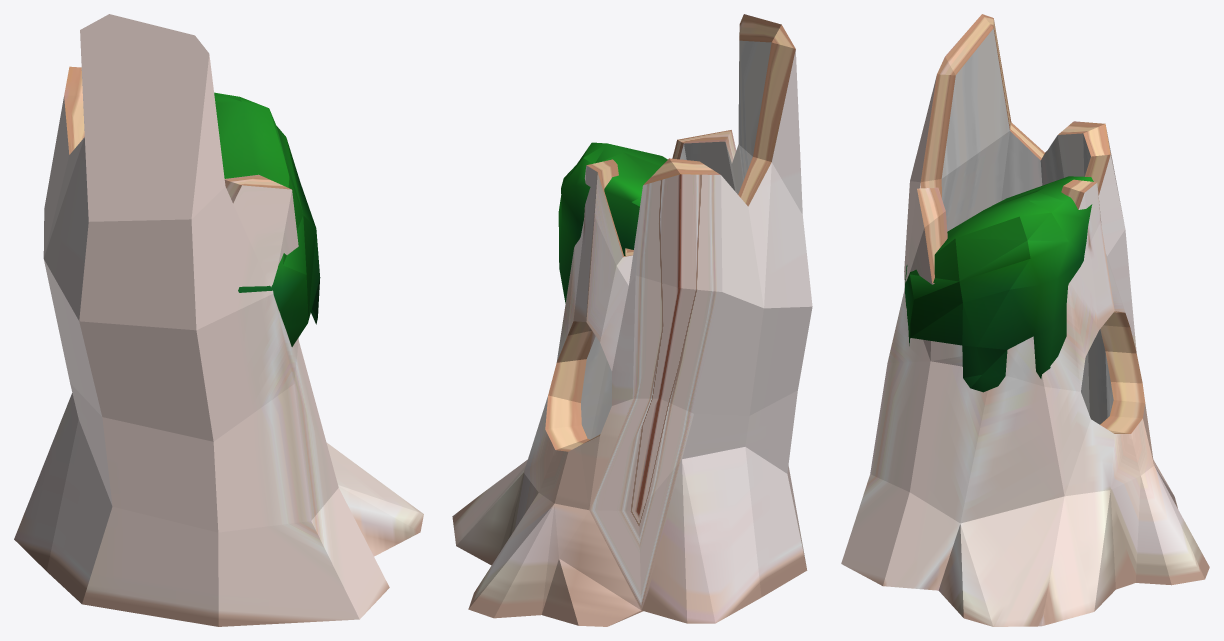
Rendered from PineDeadWithHole.fbx.
The picture shows the model from 3 angles, left to right: view 1: azimuth 30°, elevation 25°; view 2: azimuth 150°, elevation 25°; view 3: azimuth 270°, elevation 25°; orthographic projection. The views are drawn at different scales.
Parts seen in each view (by area): view 1: DecoTreeDead, DecoTreeDeadMoss; view 2: DecoTreeDead, DecoTreeDeadMoss; view 3: DecoTreeDead, DecoTreeDeadMoss.
Part boxes in pixels (x1,y1,x2,y2): DecoTreeDead: (14, 14, 423, 626); DecoTreeDeadMoss: (214, 92, 320, 346); DecoTreeDead: (452, 14, 812, 626); DecoTreeDeadMoss: (558, 142, 667, 303); DecoTreeDead: (841, 14, 1209, 626); DecoTreeDeadMoss: (904, 176, 1093, 392).
Size of what is drawn, in the model's own units: 1.24 by 1.97 by 1.36.
Materials: 2 (1 with a texture image).
